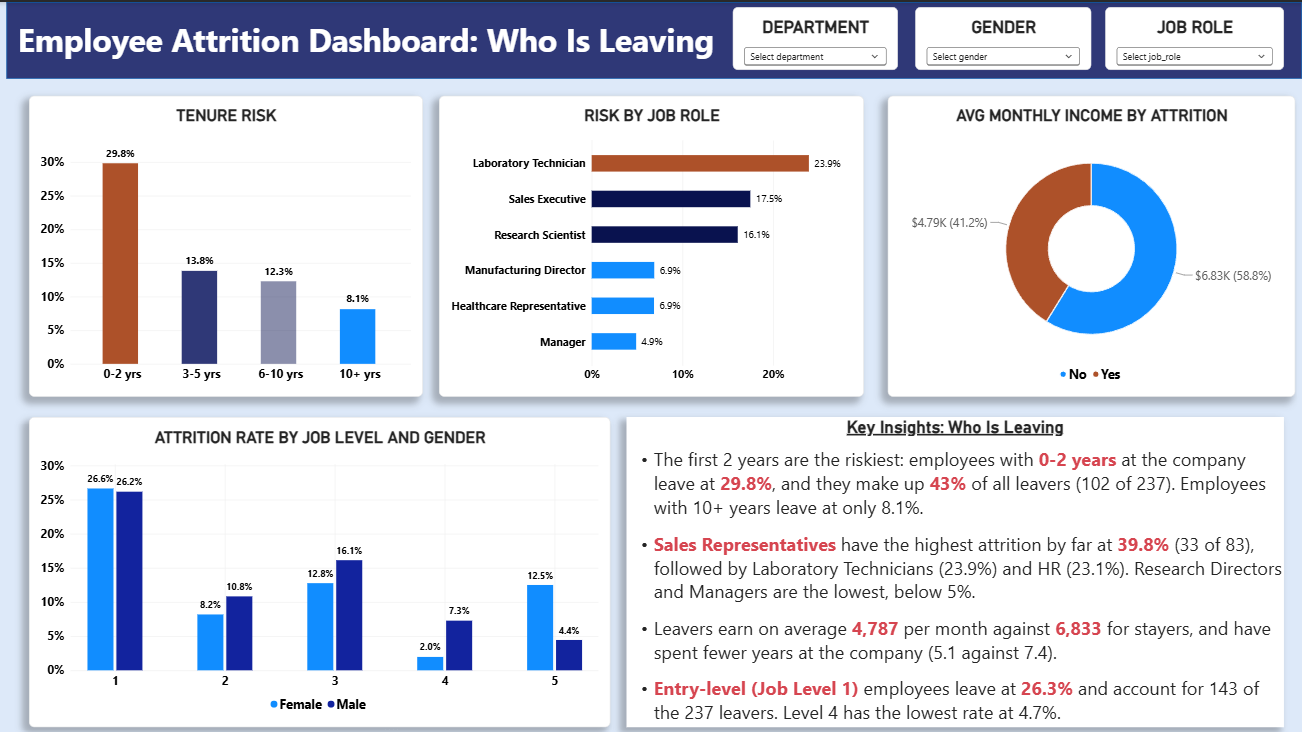

This screenshot's page, from the dashboard's own definition file:
{"tool":"powerbi","page":{"name":"WHO IS LEAVING","canvas":[1920,1080],"ordinal":1},"visuals":[{"type":"shape","box":[11,0,1909,113],"z":0},{"type":"clusteredColumnChart","title":"TENURE RISK","fields":{"Category":["public employee_attrition.tenure_group"],"Y":["public employee_attrition.Attrition Rate"]},"box":[44.2,138,579.8,443.6],"z":1000},{"type":"clusteredBarChart","title":"RISK BY JOB ROLE","fields":{"Category":["public employee_attrition.job_role"],"Y":["public employee_attrition.Attrition Rate"]},"box":[647.9,138,625.8,443.6],"z":2000},{"type":"clusteredColumnChart","title":"ATTRITION RATE BY JOB LEVEL AND GENDER","fields":{"Category":["public employee_attrition.job_level"],"Series":["public employee_attrition.gender"],"Y":["public employee_attrition.Attrition Rate"]},"box":[44.2,611,855.8,456.4],"z":3000},{"type":"donutChart","title":"AVG MONTHLY INCOME BY ATTRITION","fields":{"Category":["public employee_attrition.attrition"],"Y":["public employee_attrition.Avg Monthly Incom"]},"box":[1308.6,138,600,443.6],"z":4000},{"type":"listSlicer","title":"DEPARTMENT","fields":{"Values":["public employee_attrition.department"]},"box":[1080.4,7.4,242.9,92.6],"z":5000},{"type":"listSlicer","title":"GENDER","fields":{"Values":["public employee_attrition.gender"]},"box":[1349.1,7.4,259.3,92.6],"z":6000},{"type":"listSlicer","title":"JOB ROLE","fields":{"Values":["public employee_attrition.job_role"]},"box":[1628.8,7.4,263.5,92.6],"z":7000},{"type":"textbox","title":"Key Insights: Who Is Leaving","box":[923.9,611,968.1,456.4],"z":8000},{"type":"textbox","title":"Employee Attrition Dashboard: Who Is Leaving","box":[0,23.9,1080.4,69.9],"z":9000}]}

Visuals, with their boxes in screenshot pixels (x1, y1, x2, y2), scaled from the page's 1920x1080 canvas onto the 1302x732 screenshot:
shape: [left=7, top=0, right=1301, bottom=77]
"TENURE RISK" clusteredColumnChart: [left=30, top=94, right=423, bottom=394]
"RISK BY JOB ROLE" clusteredBarChart: [left=439, top=94, right=864, bottom=394]
"ATTRITION RATE BY JOB LEVEL AND GENDER" clusteredColumnChart: [left=30, top=414, right=610, bottom=723]
"AVG MONTHLY INCOME BY ATTRITION" donutChart: [left=887, top=94, right=1294, bottom=394]
"DEPARTMENT" listSlicer: [left=733, top=5, right=897, bottom=68]
"GENDER" listSlicer: [left=915, top=5, right=1091, bottom=68]
"JOB ROLE" listSlicer: [left=1105, top=5, right=1283, bottom=68]
"Key Insights: Who Is Leaving" textbox: [left=627, top=414, right=1283, bottom=723]
"Employee Attrition Dashboard: Who Is Leaving" textbox: [left=0, top=16, right=733, bottom=64]
